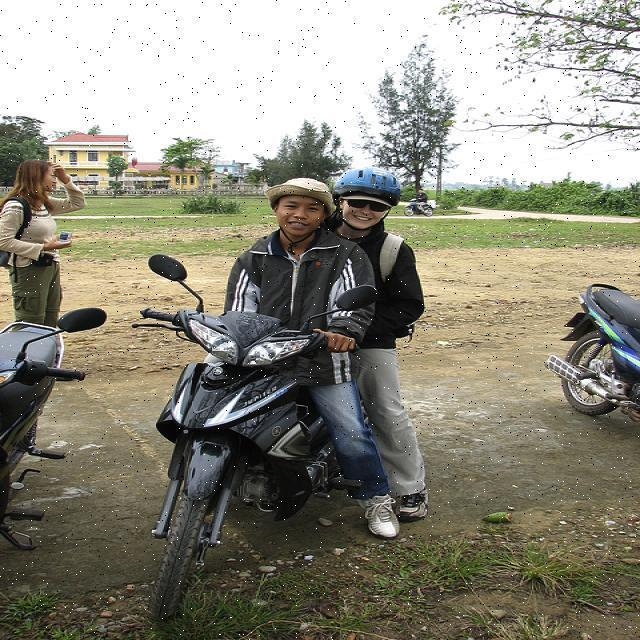motorcycle: (130, 246, 424, 640), (0, 296, 101, 556), (541, 275, 640, 418)
